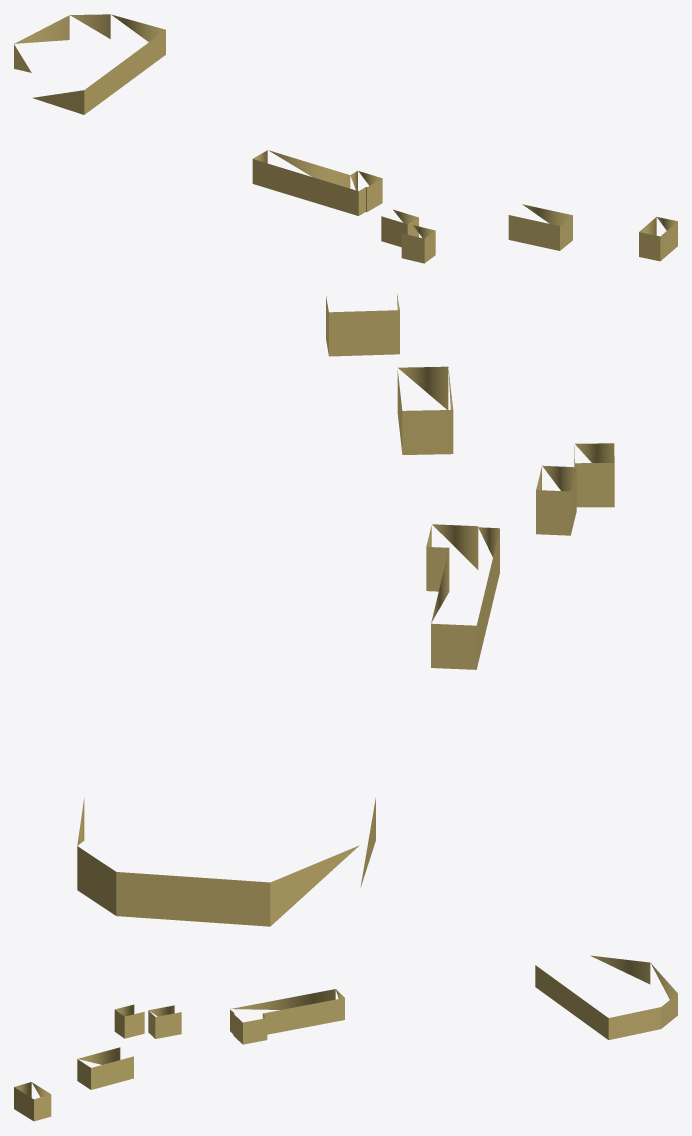
3 renders of one model, top to bottom at view 1: azimuth 30°, elevation 25°; view 2: azimuth 150°, elevation 25°; view 3: azimuth 270°, elevation 25°, orthographic. The views are drawn at different scales.
Size of the model in its own units: 105 by 7.5 by 204.
